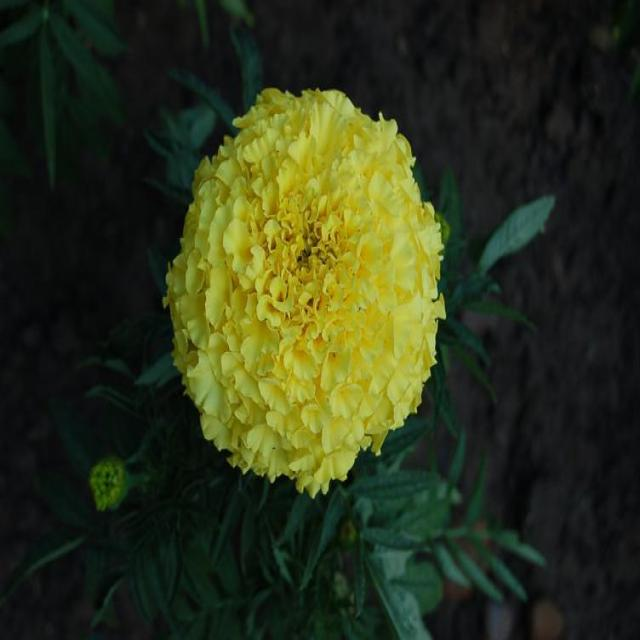marigold: (156, 63, 530, 498)
